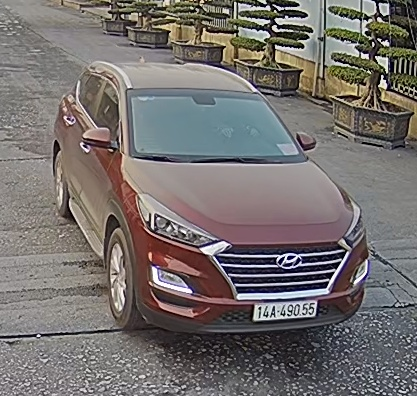vehicle plate: (251, 298, 319, 320)
